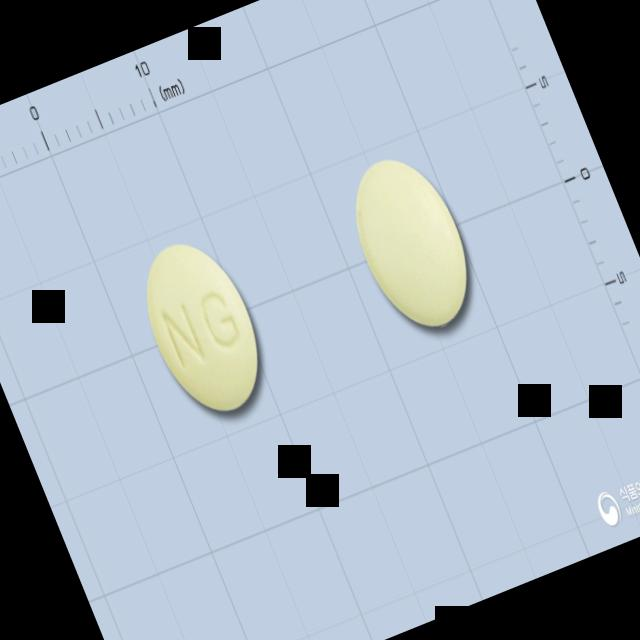Nevolaxin Tablet: (124, 227, 282, 430)
